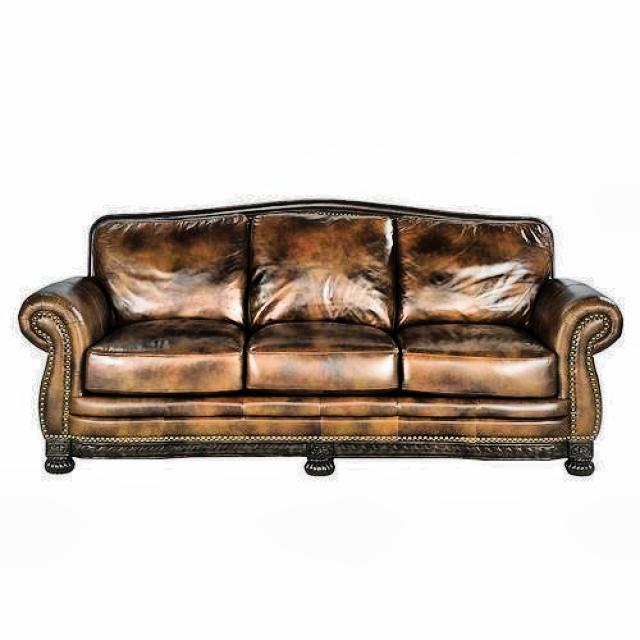sofa: (17, 200, 626, 479)
